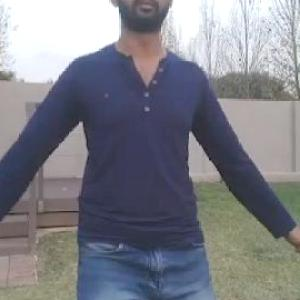land: (1, 0, 287, 299)
